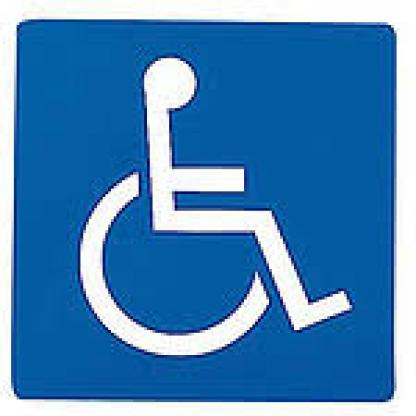toilet: (61, 44, 367, 370), (76, 47, 82, 53)
